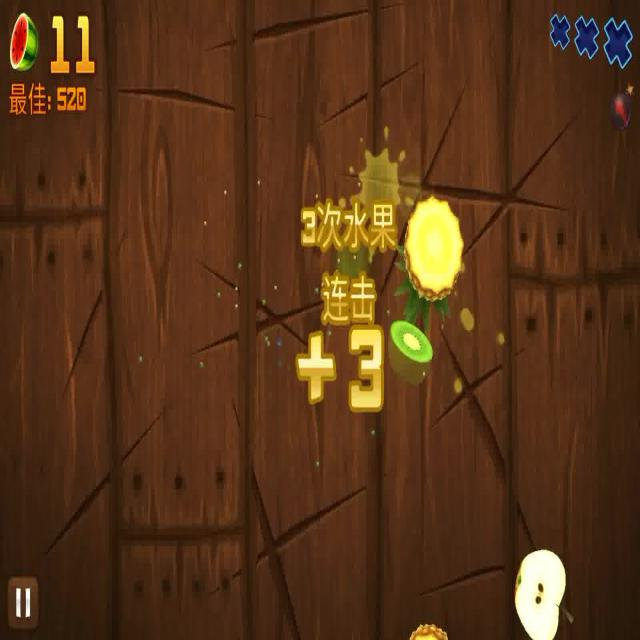fruit: (392, 203, 467, 325), (514, 551, 574, 640), (387, 314, 434, 391), (407, 615, 450, 640)
